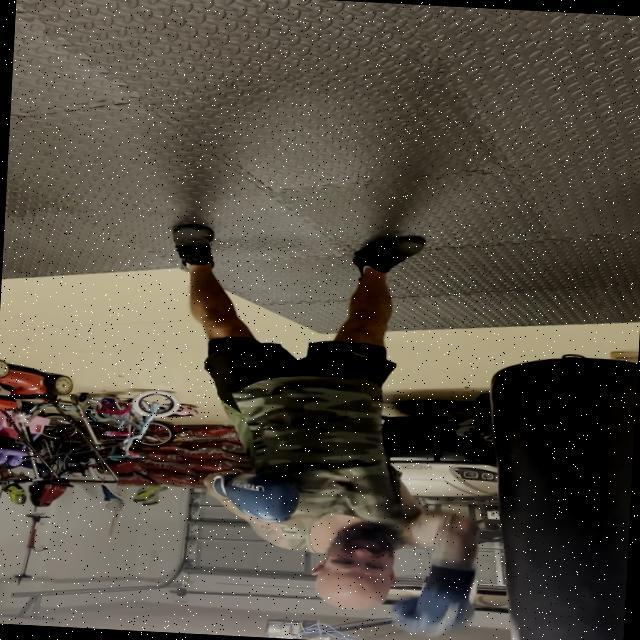bag: (495, 332, 638, 640)
uppercut: (209, 442, 494, 640)
